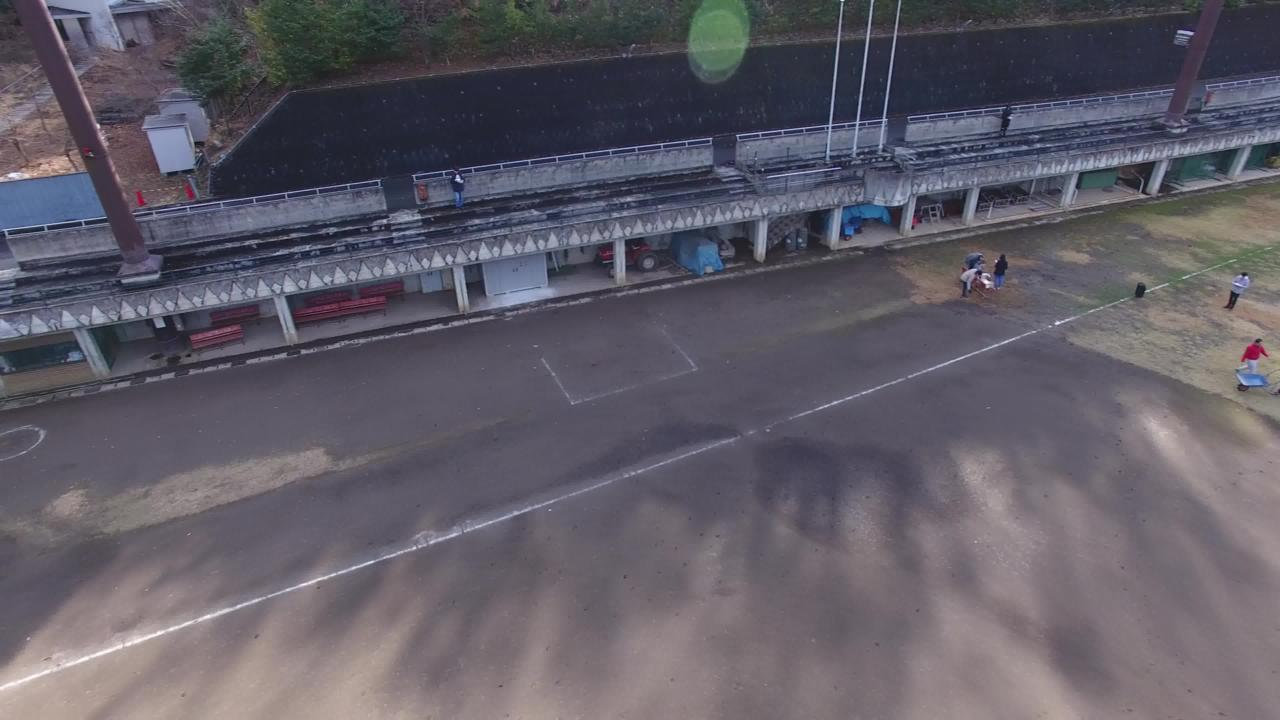person: (443, 157, 470, 213), (1240, 330, 1267, 386), (1222, 262, 1249, 318), (990, 91, 1017, 147), (988, 248, 1009, 296), (963, 240, 985, 265), (960, 263, 982, 288)
